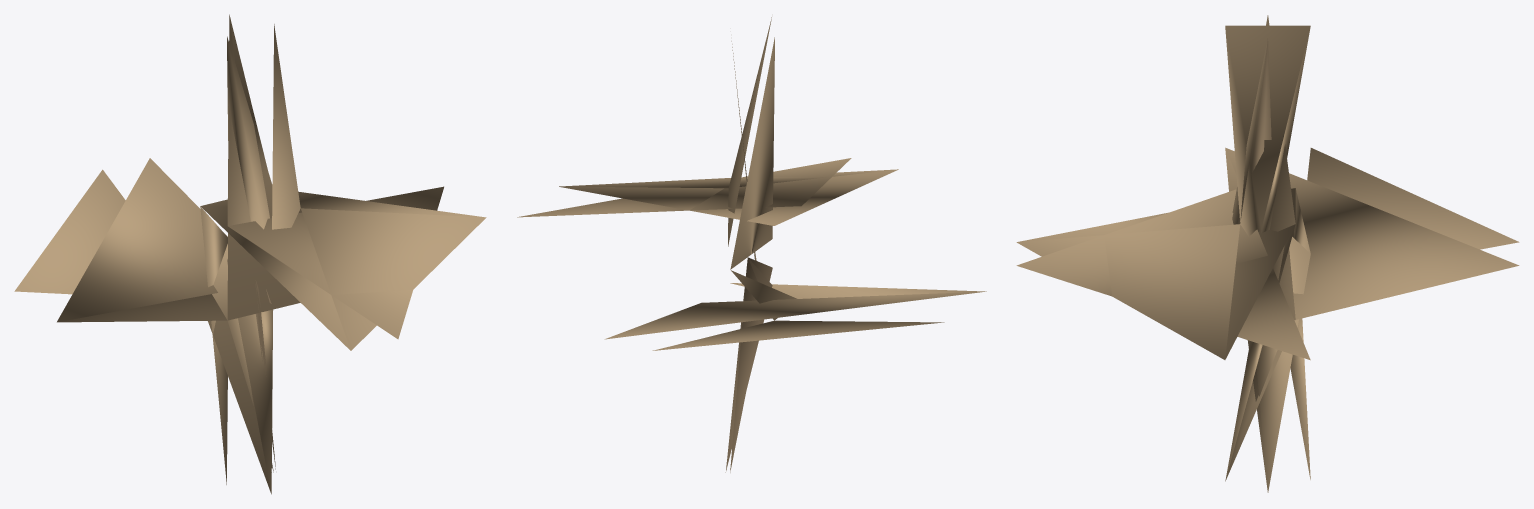
Rendered from equip_body_leather_body.glb.
The picture shows the model from 3 angles, left to right: view 1: azimuth 30°, elevation 25°; view 2: azimuth 150°, elevation 25°; view 3: azimuth 270°, elevation 25°; orthographic projection.
Parts seen in each view (by area): view 1: equip_body_leather_body; view 2: equip_body_leather_body; view 3: equip_body_leather_body.
Part boxes in pixels (x1,y1,x2,y2): equip_body_leather_body: (14, 14, 486, 494); equip_body_leather_body: (517, 17, 986, 472); equip_body_leather_body: (1016, 15, 1519, 492).
Size of the model in its own units: 2 by 2 by 2.
